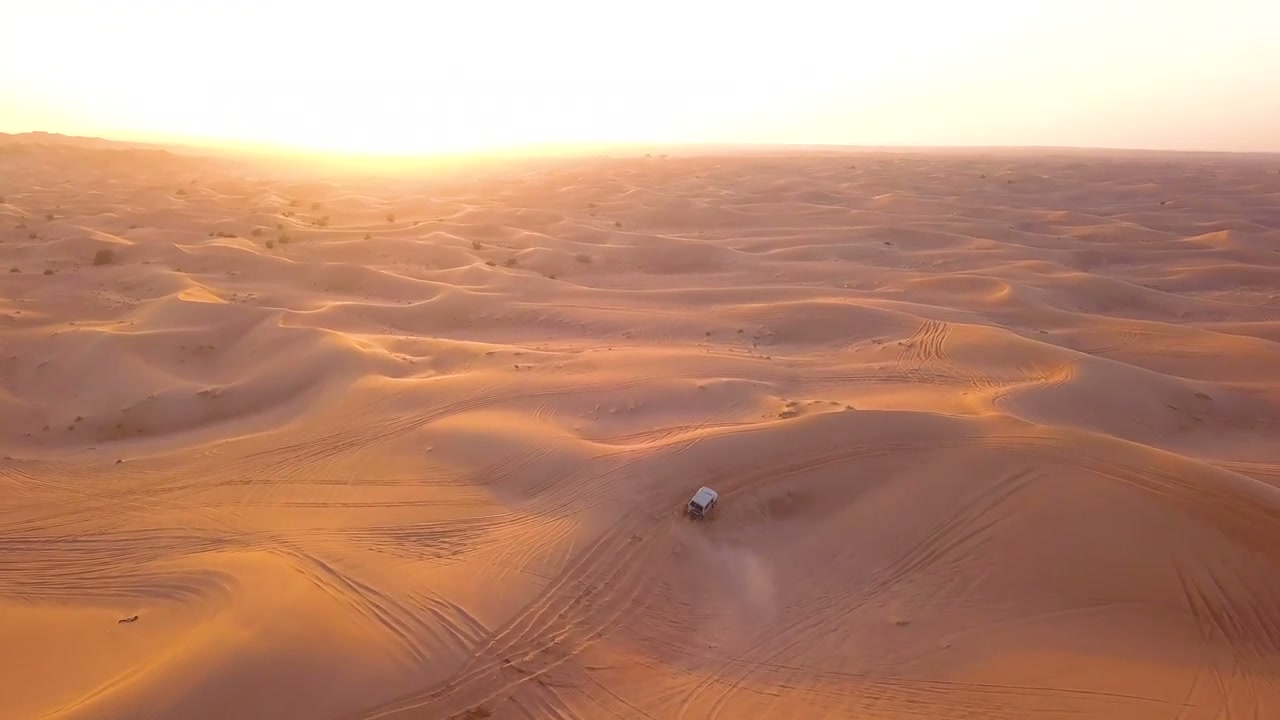vehicle_track: (352, 511, 672, 719), (352, 514, 669, 719), (743, 468, 1031, 662), (316, 438, 696, 563), (219, 377, 654, 481), (979, 436, 1279, 552), (735, 659, 1183, 719), (502, 436, 698, 559), (866, 467, 1034, 596), (273, 543, 433, 666), (1170, 554, 1279, 717), (0, 528, 235, 600), (0, 463, 205, 534), (1175, 563, 1279, 661), (721, 444, 908, 497), (874, 320, 1005, 391), (593, 406, 752, 445), (407, 589, 488, 651), (468, 436, 563, 485), (591, 419, 754, 446), (799, 365, 969, 390), (991, 358, 1077, 406), (897, 320, 949, 377), (1208, 460, 1279, 485), (1079, 329, 1137, 354)
